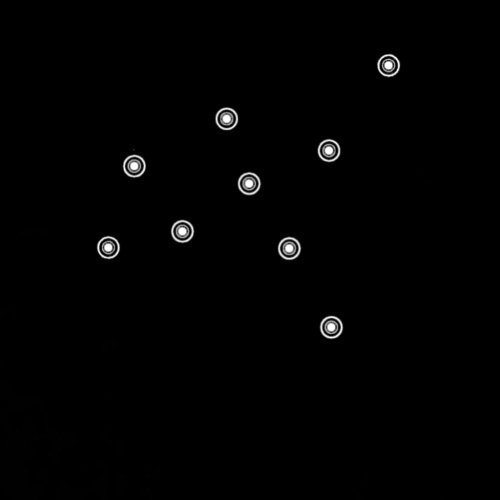cygnus: (93, 48, 405, 345)
